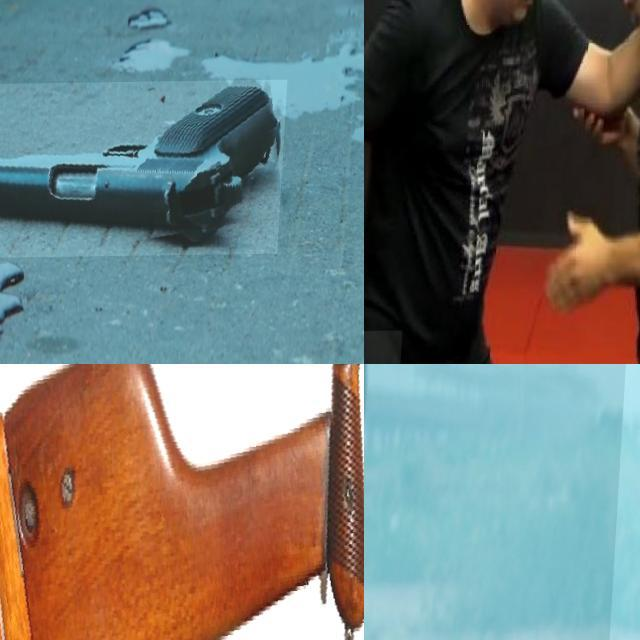-: (364, 330, 416, 364)
gun-knife-thesis - v11 Yolov5 augmented: (0, 364, 364, 640), (0, 81, 290, 259)
